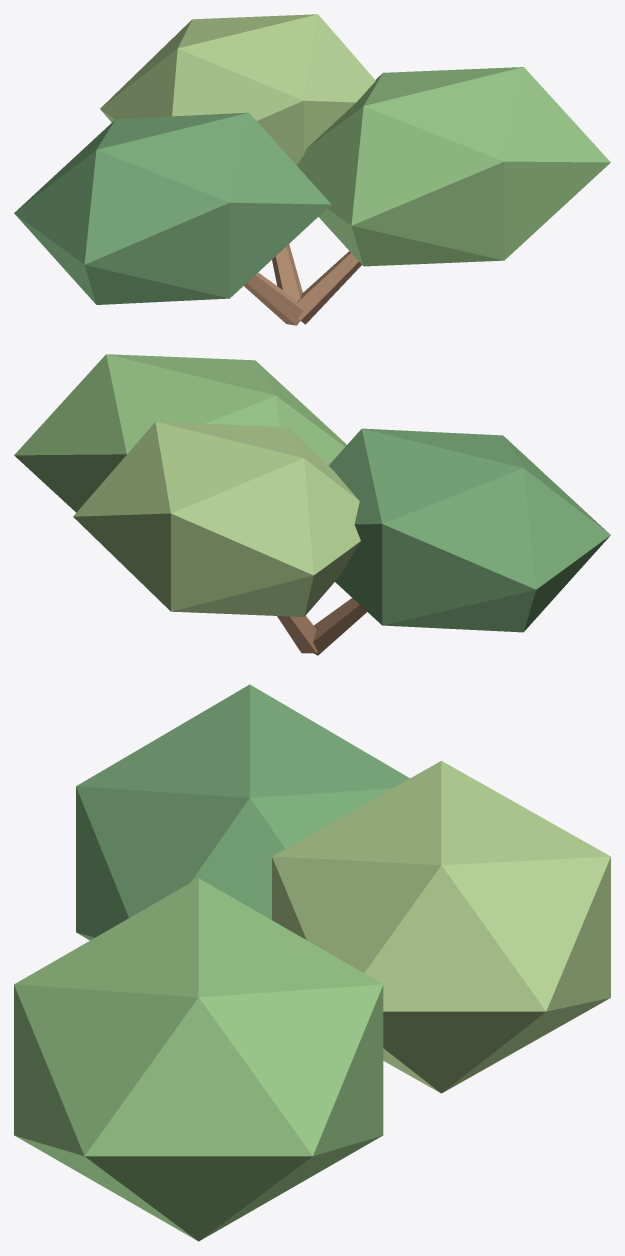
Rendered from shrub_b_spreading.glb.
3 renders of one model, top to bottom at view 1: azimuth 30°, elevation 25°; view 2: azimuth 150°, elevation 25°; view 3: azimuth 270°, elevation 25°, orthographic. The views are drawn at different scales.
Parts seen in each view (by area): view 1: leaf_1, leaf_0, leaf_2, stem_1, stem_0, stem_2; view 2: leaf_0, leaf_2, leaf_1, stem_0, stem_2; view 3: leaf_1, leaf_2, leaf_0.
Part boxes in pixels (x1=…): leaf_1: x1=297, y1=67, x2=610, y2=266; leaf_0: x1=14, y1=112, x2=331, y2=304; leaf_2: x1=100, y1=14, x2=375, y2=165; stem_1: x1=296, y1=251, x2=361, y2=324; stem_0: x1=244, y1=272, x2=302, y2=325; stem_2: x1=272, y1=244, x2=302, y2=302; leaf_0: x1=328, y1=428, x2=610, y2=632; leaf_2: x1=73, y1=422, x2=360, y2=616; leaf_1: x1=14, y1=354, x2=346, y2=512; stem_0: x1=313, y1=598, x2=366, y2=655; stem_2: x1=277, y1=616, x2=317, y2=653; leaf_1: x1=14, y1=878, x2=383, y2=1241; leaf_2: x1=272, y1=761, x2=610, y2=1093; leaf_0: x1=76, y1=684, x2=409, y2=940.
Bounding box in the file's own units: 3.49 × 1.6 × 2.34.
